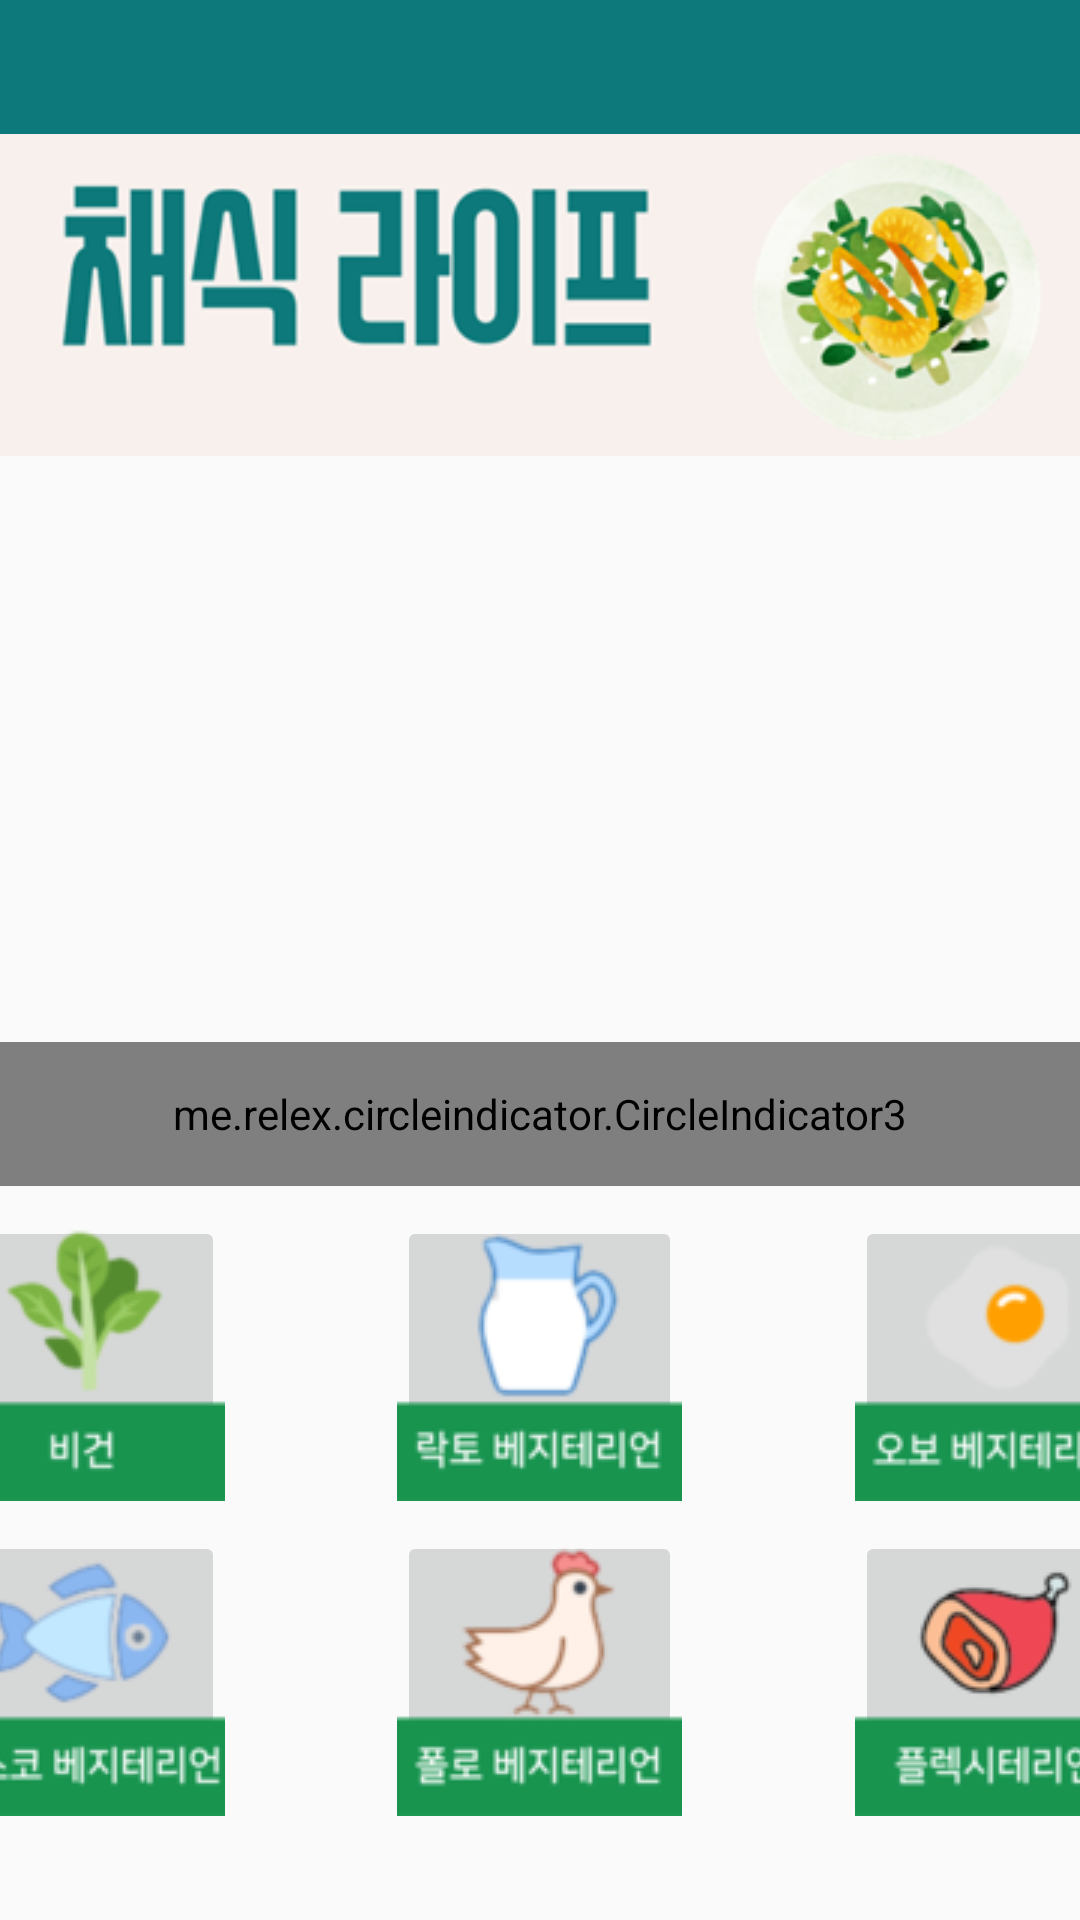

Named icons in this screenshot (1080×1920) and their centers, (x=x, y=y):
chick: (x=539, y=1682)
milk: (x=539, y=1367)
